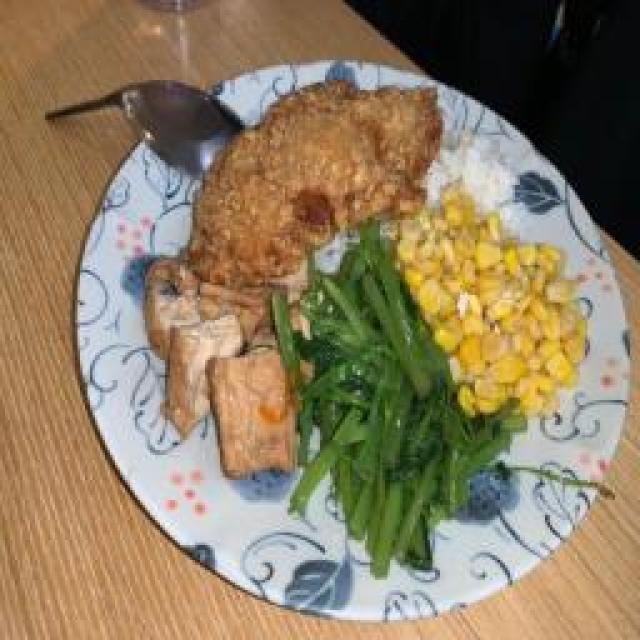Wet Waste: (305, 242, 470, 538), (192, 82, 442, 272), (428, 135, 520, 213)
